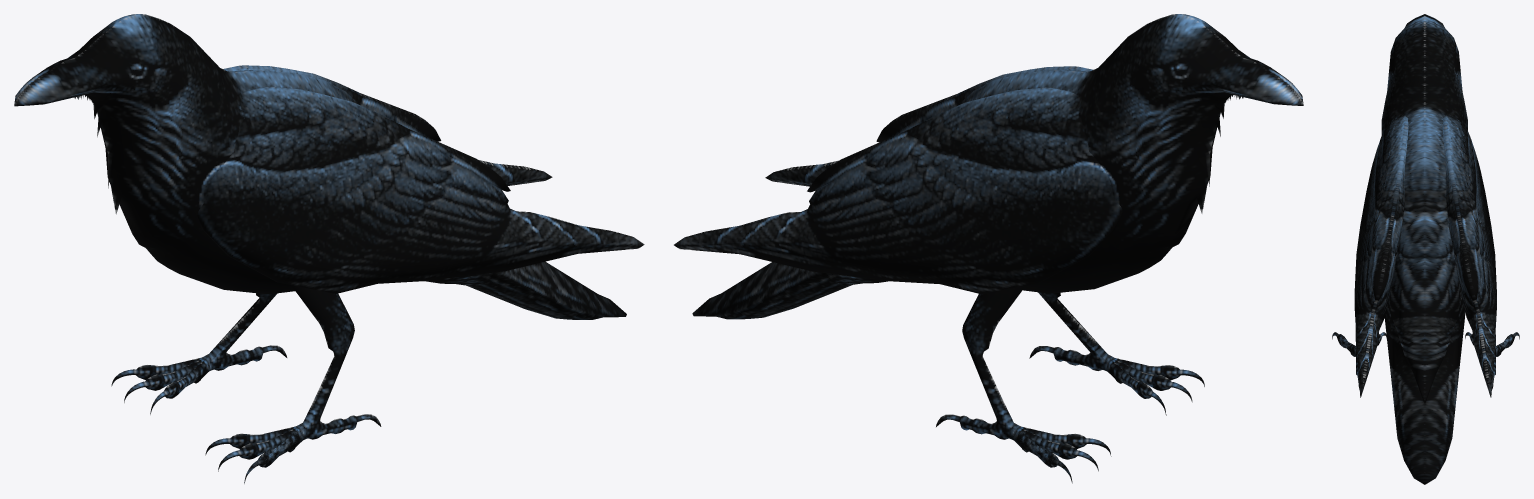
Rendered from Nevermore.dae.
The picture shows the model from 3 angles, left to right: view 1: azimuth 30°, elevation 25°; view 2: azimuth 150°, elevation 25°; view 3: azimuth 270°, elevation 25°; orthographic projection. The views are drawn at different scales.
Visible parts, largest first — view 1: group_1, group_0 (×2), group_4 (×2), group_2; view 2: group_2, group_0 (×2), group_4 (×2), group_1; view 3: group_0 (×3), group_2, group_1, group_4 (×2).
Part boxes in pixels (box(x1,y1,x2,y2)): group_1: box(197, 86, 644, 293); group_0 (×2): box(14, 14, 626, 319); group_4 (×2): box(111, 285, 381, 483); group_2: box(223, 65, 552, 185); group_2: box(674, 87, 1122, 294); group_0 (×2): box(692, 14, 1303, 319); group_4 (×2): box(936, 285, 1204, 483); group_1: box(765, 66, 1093, 186); group_0 (×3): box(1381, 14, 1467, 484); group_2: box(1442, 114, 1496, 397); group_1: box(1354, 116, 1408, 397); group_4 (×2): box(1332, 332, 1519, 389).
Size of the model in its own units: 70.12 by 26.33 by 47.26.
2 materials, 1 textured.
